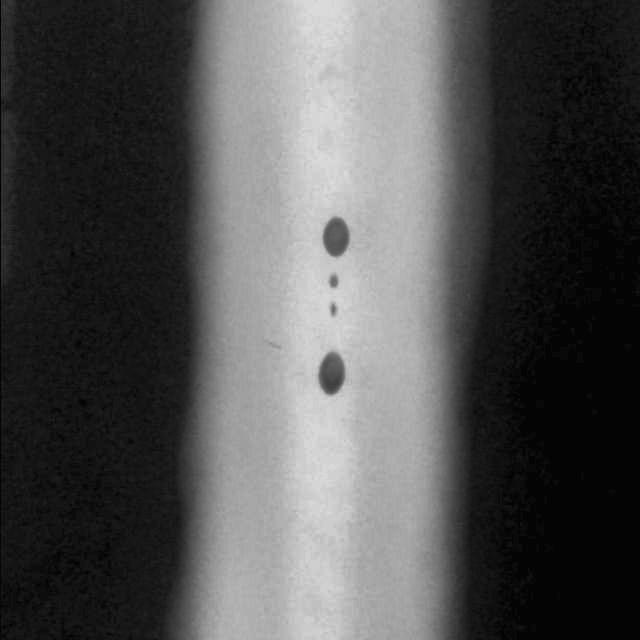LoP-LoF: (308, 204, 362, 264)
